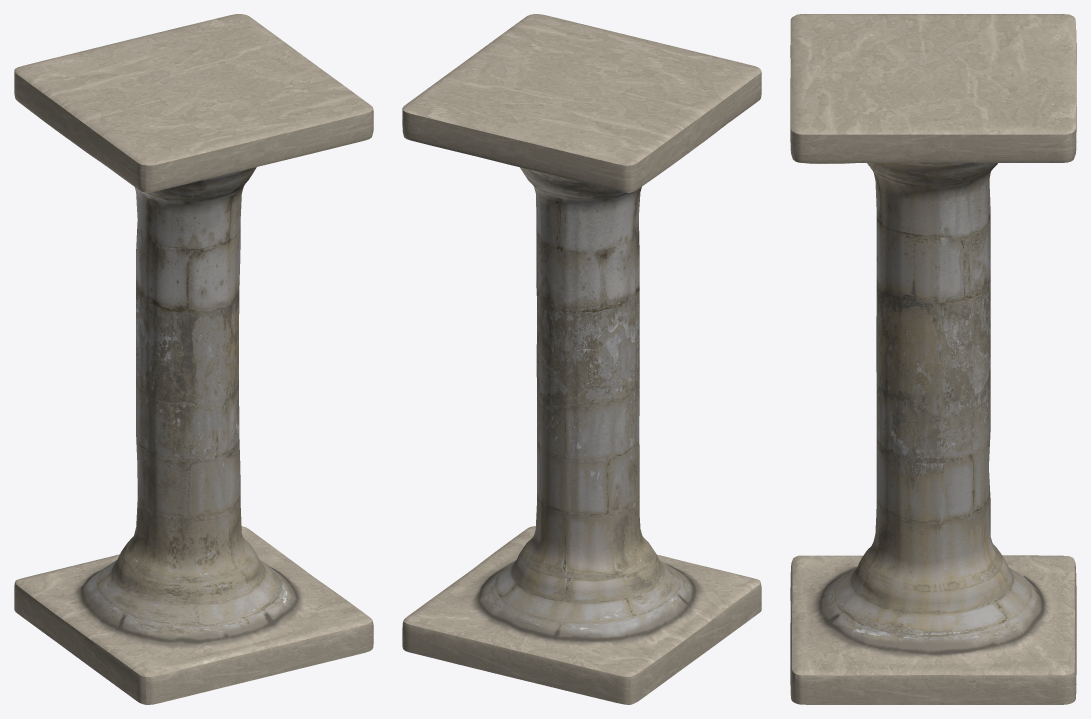
File: pillar__style1.glb
3 views of the same model, side by side, from view 1: azimuth 30°, elevation 25°; view 2: azimuth 150°, elevation 25°; view 3: azimuth 270°, elevation 25° (orthographic). The views are drawn at different scales.
Parts seen in each view (by area): view 1: Pillar_Style1_low; view 2: Pillar_Style1_low; view 3: Pillar_Style1_low.
Part boxes in pixels (x1=…): Pillar_Style1_low: x1=14, y1=14, x2=373, y2=704; Pillar_Style1_low: x1=402, y1=14, x2=761, y2=704; Pillar_Style1_low: x1=790, y1=14, x2=1076, y2=704.
Size of the model in its own units: 9.36 by 20.8 by 9.36.
1 material, 1 textured.
